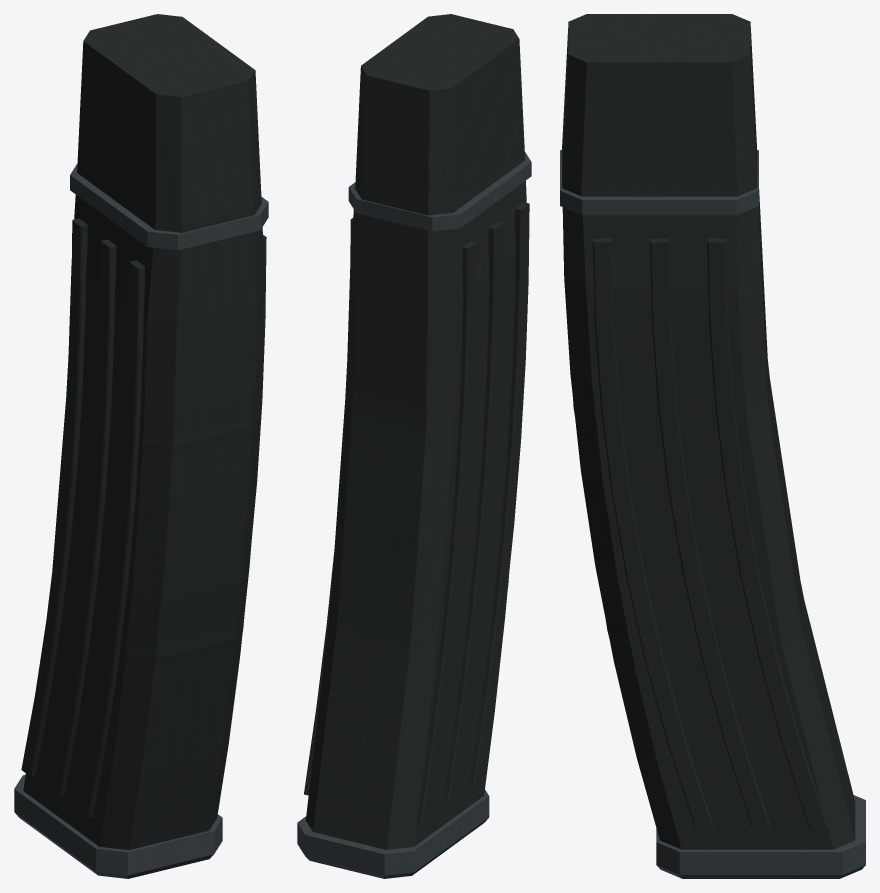
The picture shows the model from 3 angles, left to right: view 1: azimuth 30°, elevation 25°; view 2: azimuth 150°, elevation 25°; view 3: azimuth 270°, elevation 25°; orthographic projection. The views are drawn at different scales.
Visible parts, largest first — view 1: ak545_45_curved_shell_0, ak545_45_curved_shell_1, ak545_45_floorplate_0; view 2: ak545_45_curved_shell_1, ak545_45_curved_shell_0, ak545_45_floorplate_0; view 3: ak545_45_curved_shell_0, ak545_45_curved_shell_1, ak545_45_floorplate_0.
Part boxes in pixels (<box>): ak545_45_curved_shell_0: <box>21,14,266,849</box>; ak545_45_curved_shell_1: <box>23,355,260,845</box>; ak545_45_floorplate_0: <box>14,163,268,878</box>; ak545_45_curved_shell_1: <box>305,182,511,849</box>; ak545_45_curved_shell_0: <box>304,14,529,846</box>; ak545_45_floorplate_0: <box>297,152,531,878</box>; ak545_45_curved_shell_0: <box>562,14,832,849</box>; ak545_45_curved_shell_1: <box>573,150,855,849</box>; ak545_45_floorplate_0: <box>560,150,865,878</box>.
Bounding box in the file's own units: 0.07 × 0.423 × 0.1445.
Materials: 2 (2 with a texture image).
